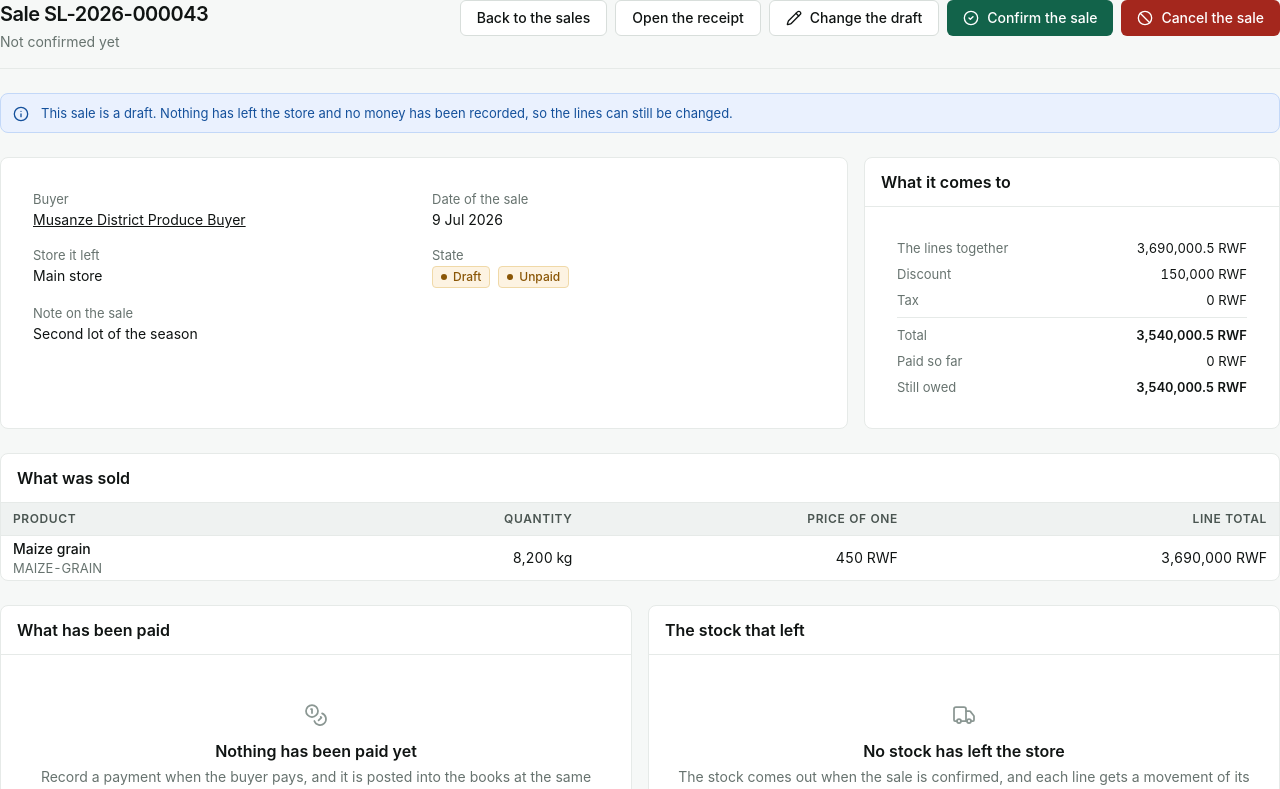
confirming › reports an insufficient-stock refusal as still a draft with nothing moved
The image size is (1280, 789).
Step 1. Click the button "Confirm the sale" → [1030, 18], box top-left (947, 0), bottom-right (1113, 36)
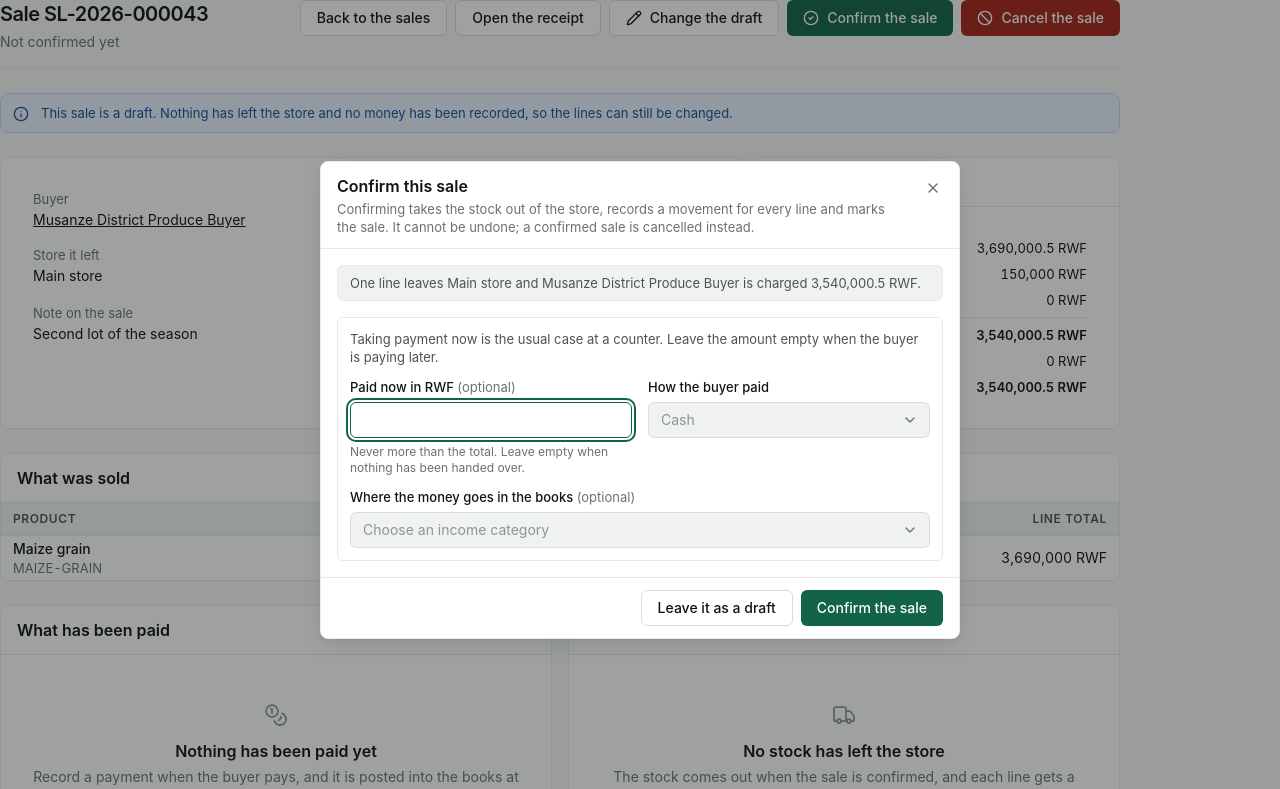
Expected: the dialog is shown, top-left (320, 161), bottom-right (960, 639)
Step 2. Submit the form with id "confirm-sale-form", box top-left (337, 265), bottom-right (943, 561)
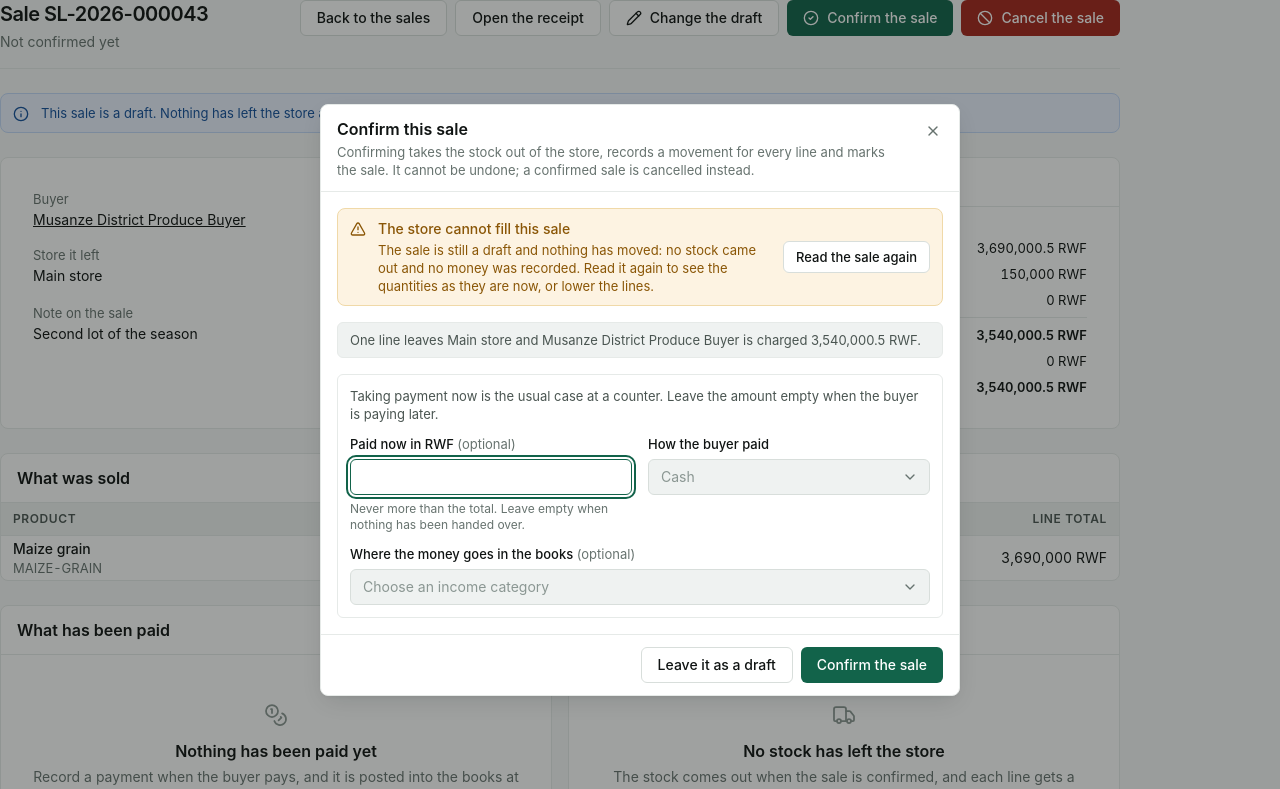
Expected: the text "still a draft" is shown, top-left (378, 242), bottom-right (756, 294)
Step 3. Press Escape
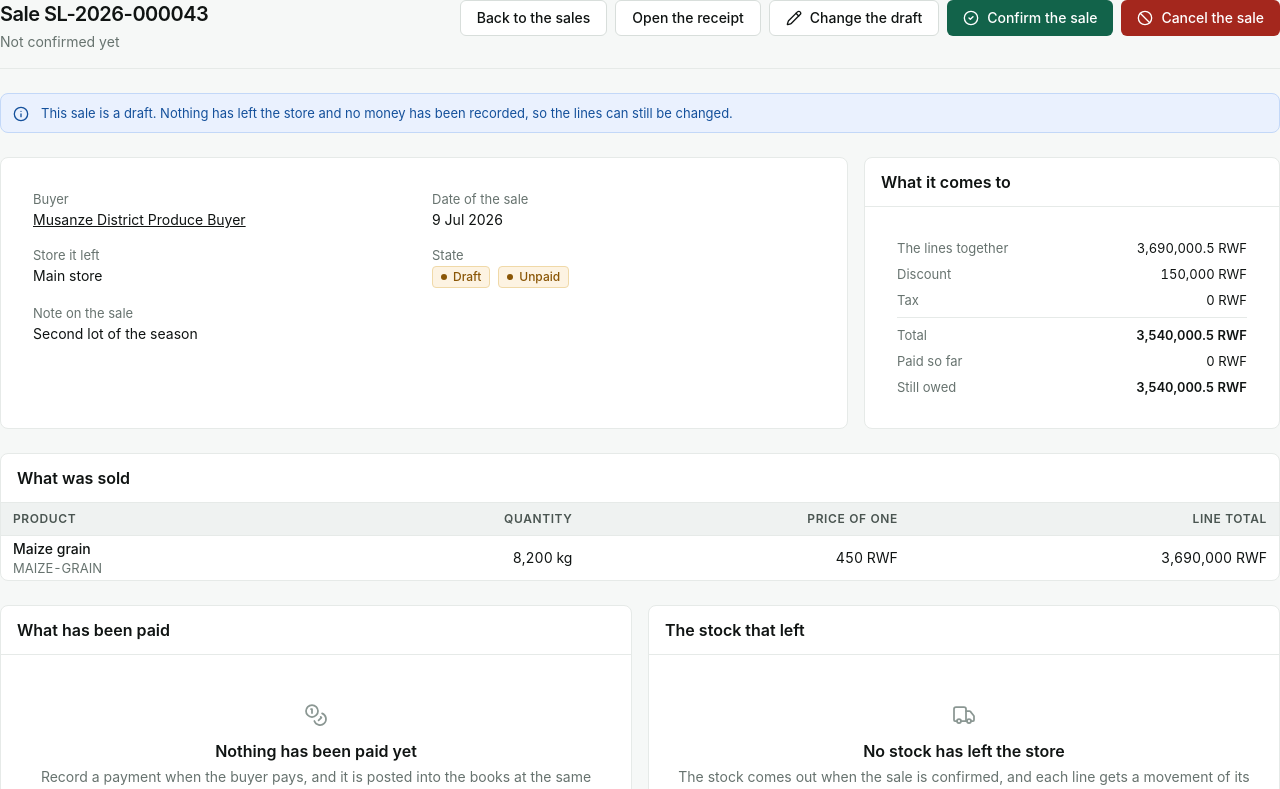
Expected: the dialog is gone
